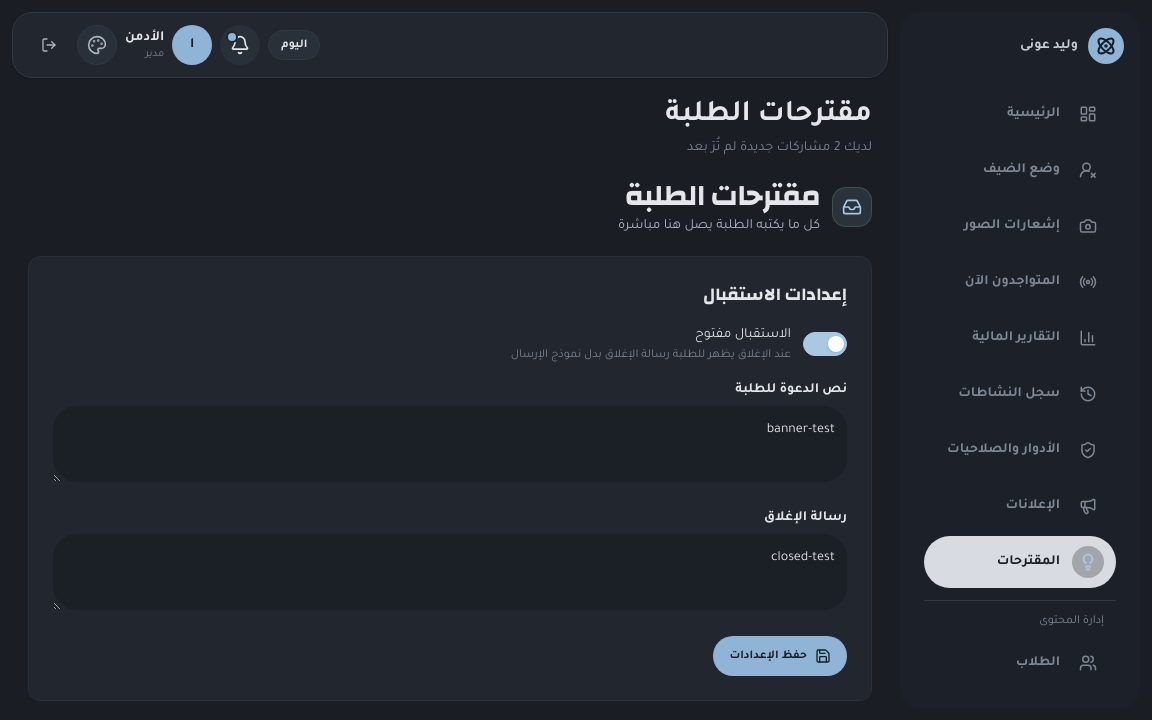
Test: AdminSuggestionsPage › saves the open/close config and messages
Click the button with test id "suggestions-config-save": (780, 656) [713,636,847,676]
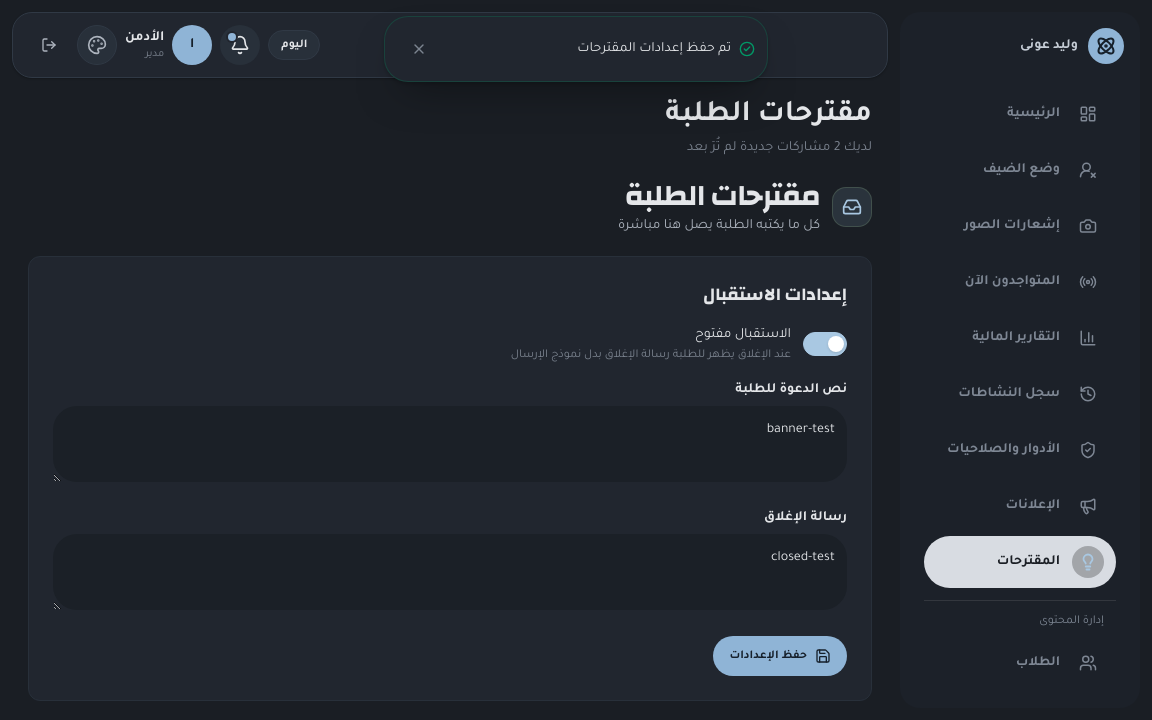
Expected: the text "تم حفظ إعدادات المقترحات" is shown, [577,42,731,56]
